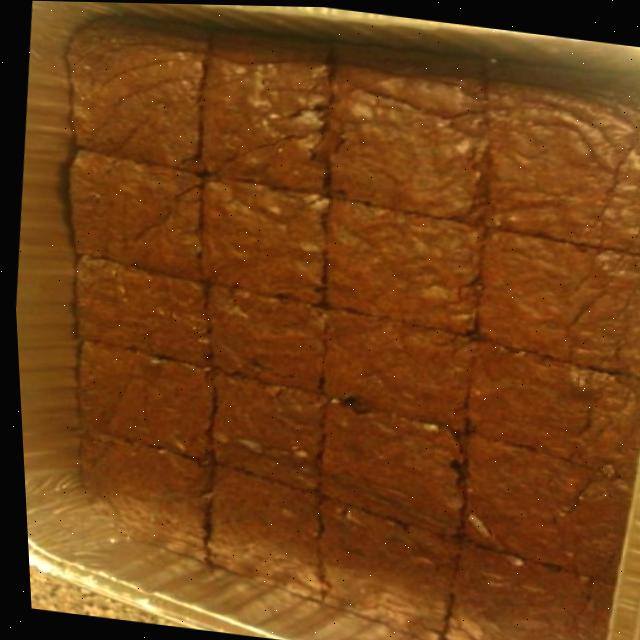蛋糕甜品: (1, 33, 640, 640)
